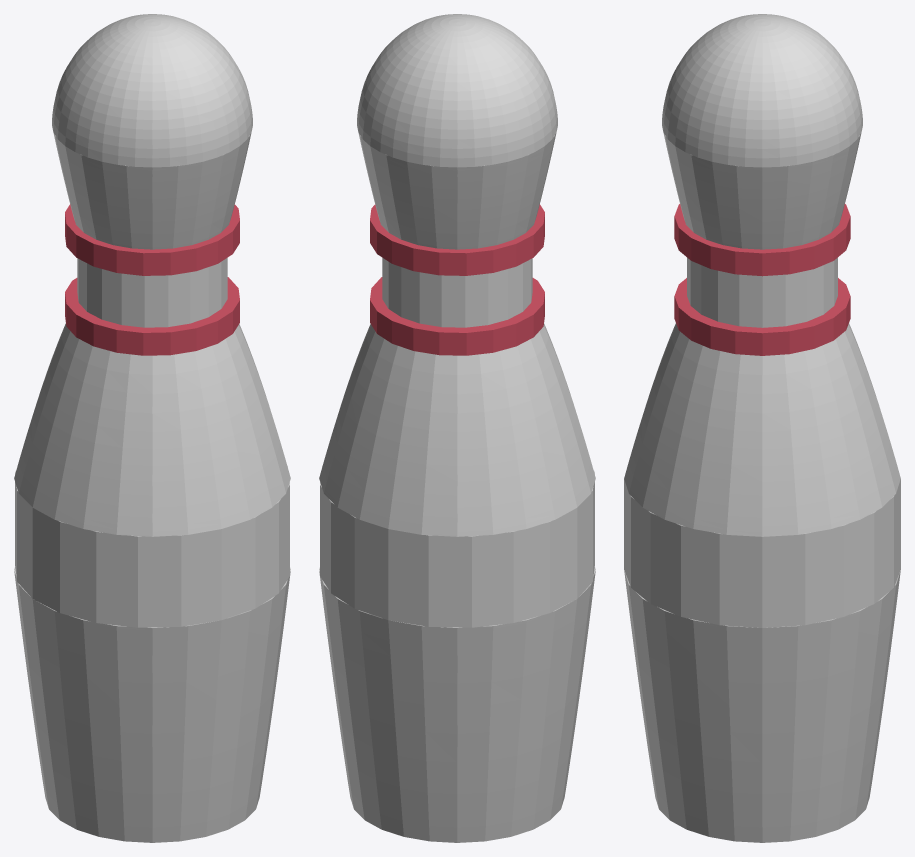
File: bowling_pin.glb
3 views of the same model, side by side, from view 1: azimuth 30°, elevation 25°; view 2: azimuth 150°, elevation 25°; view 3: azimuth 270°, elevation 25° (orthographic).
Visible parts, largest first — view 1: Mesh_Mesh_head_geo.001_lambert2SG.001; view 2: Mesh_Mesh_head_geo.001_lambert2SG.001; view 3: Mesh_Mesh_head_geo.001_lambert2SG.001.
Part boxes in pixels (x1,y1,x2,y2): Mesh_Mesh_head_geo.001_lambert2SG.001: (14, 14, 290, 842); Mesh_Mesh_head_geo.001_lambert2SG.001: (319, 14, 595, 842); Mesh_Mesh_head_geo.001_lambert2SG.001: (624, 14, 900, 842).
Bounding box in the file's own units: 22 × 68 × 22.
